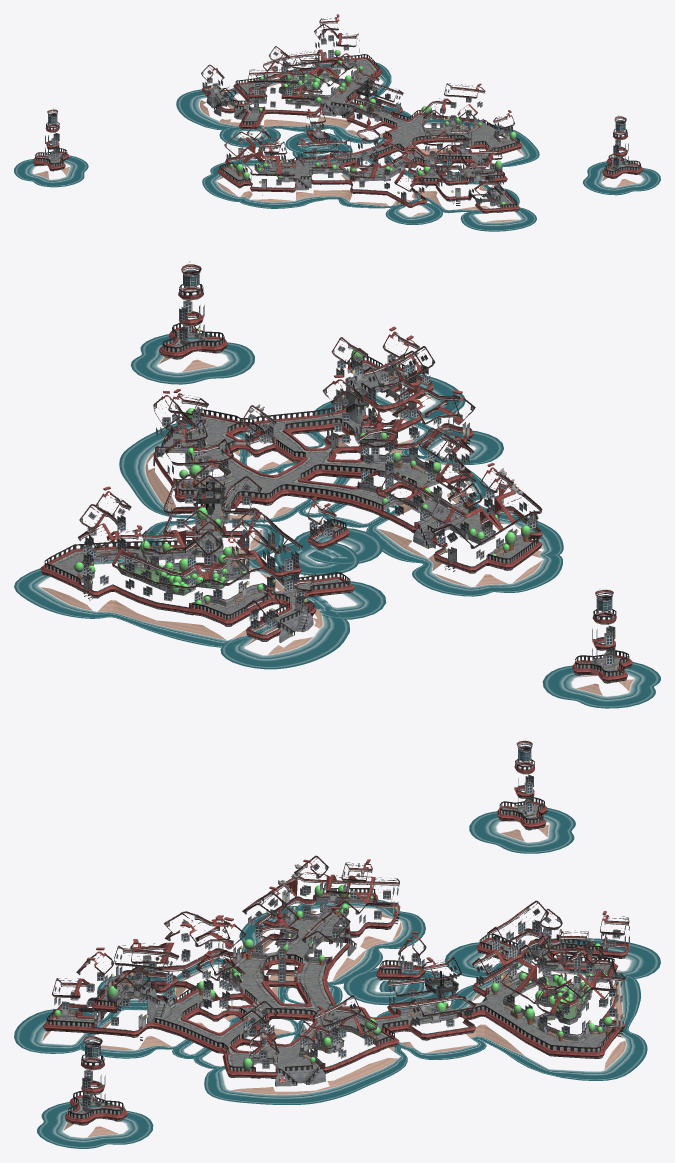
File: Townsc7ABxxL4aNiJ3zA.obj
3 renders of one model, top to bottom at view 1: azimuth 30°, elevation 25°; view 2: azimuth 150°, elevation 25°; view 3: azimuth 270°, elevation 25°, orthographic. The views are drawn at different scales.
Visible parts, largest first — view 1: House, Water, Windows, Fencing, Sand, Plants, Props; view 2: House, Water, Windows, Fencing, Sand, Plants, Props; view 3: House, Water, Windows, Fencing, Sand, Plants, Props.
Part boxes in pixels (<box>): House: <box>33,14,642,213</box>; Water: <box>14,62,660,231</box>; Windows: <box>45,24,628,206</box>; Fencing: <box>35,54,640,207</box>; Sand: <box>35,68,637,222</box>; Plants: <box>219,50,516,206</box>; Props: <box>58,54,619,207</box>; House: <box>40,261,632,683</box>; Water: <box>14,333,660,708</box>; Windows: <box>83,300,615,665</box>; Fencing: <box>44,284,629,676</box>; Sand: <box>40,353,633,695</box>; Plants: <box>74,350,530,617</box>; Props: <box>76,327,596,668</box>; House: <box>43,740,629,1125</box>; Water: <box>14,808,660,1148</box>; Windows: <box>54,774,629,1108</box>; Fencing: <box>46,759,623,1118</box>; Sand: <box>42,821,626,1136</box>; Plants: <box>54,884,612,1069</box>; Props: <box>55,812,625,1105</box>.
Bounding box in the file's own units: 32.17 × 4.28 × 25.68.
